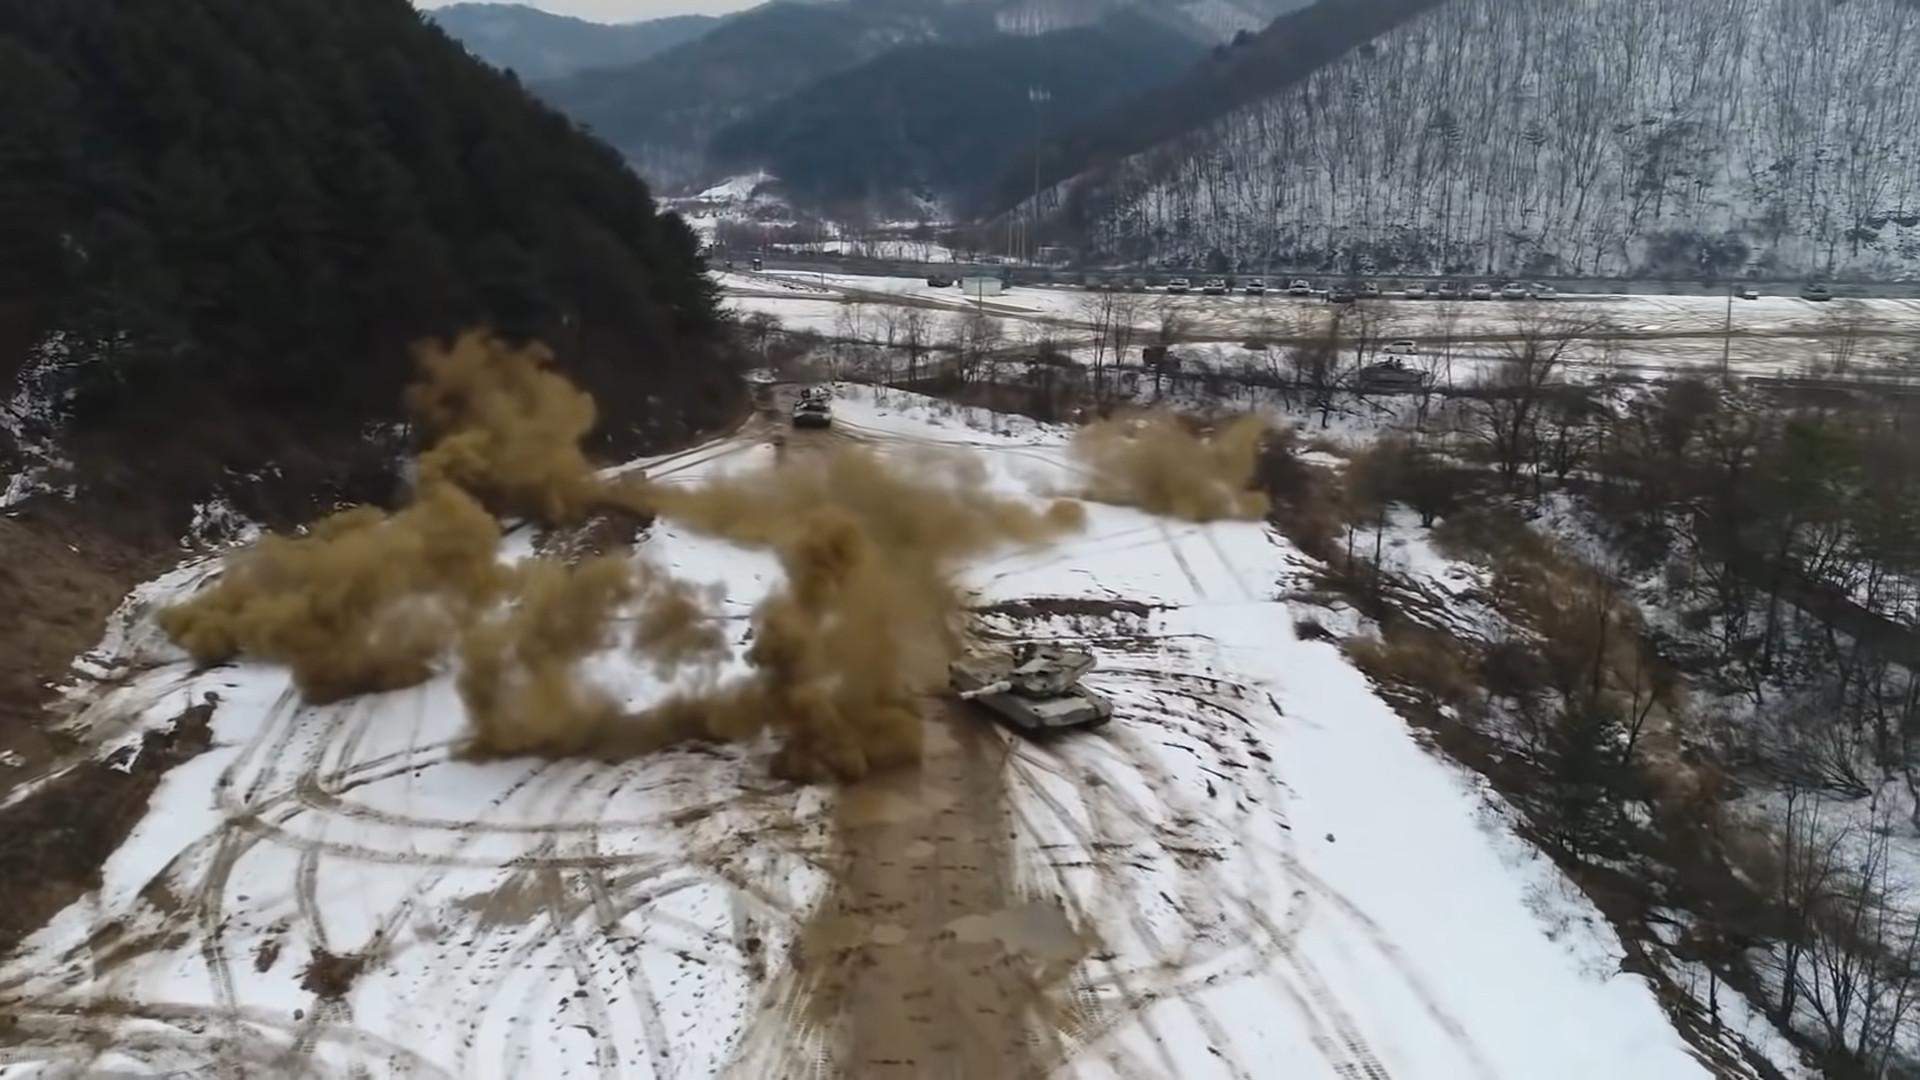tank: (948, 641, 1113, 733)
